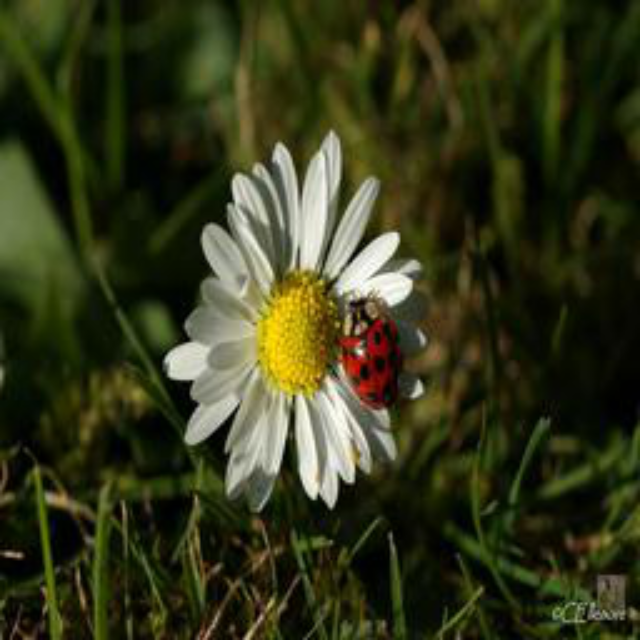daisy: (160, 127, 434, 517)
